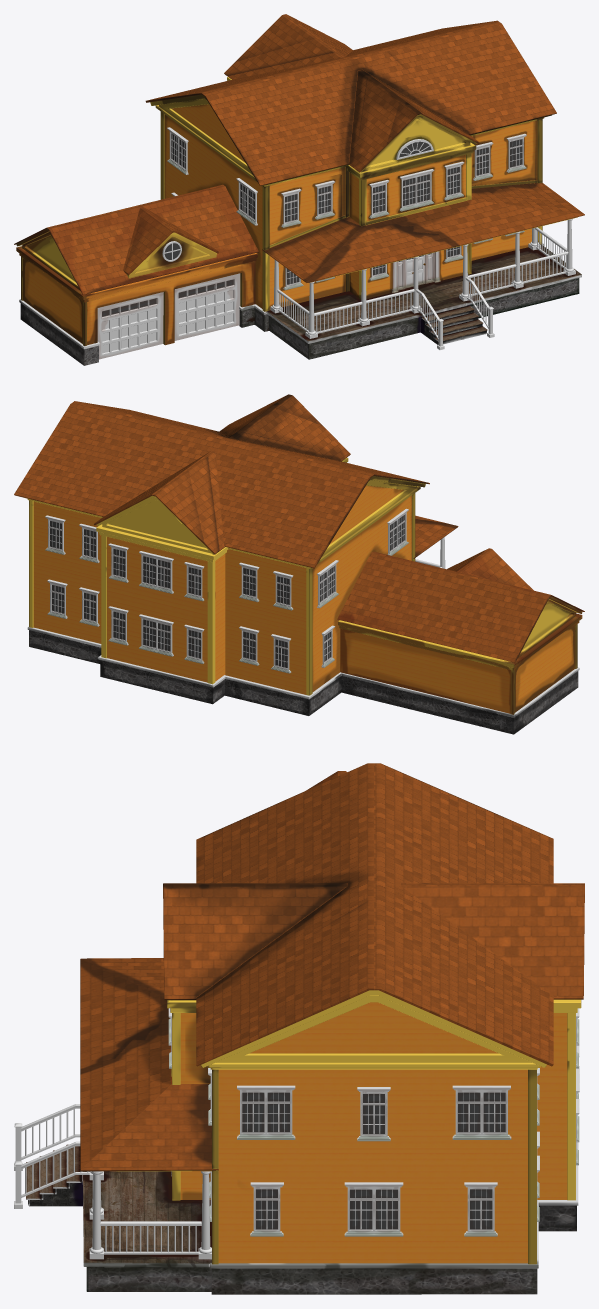
File: mansion.glb
3 views of the same model, one above another, from view 1: azimuth 30°, elevation 25°; view 2: azimuth 150°, elevation 25°; view 3: azimuth 270°, elevation 25° (orthographic). The views are drawn at different scales.
Visible parts, largest first — view 1: house_house_0_11, garage_house_0_7, foundation_details_0_4, windows_details_0_21, garage_door_details_0_9, railings_details_0_17, pillars_details_0_13, steps_details_0_19, door_details_0_2, railing2_details_0_15, arch_window_details_0_0; view 2: house_house_0_11, garage_house_0_7, windows_details_0_21, foundation_details_0_4; view 3: house_house_0_11, foundation_details_0_4, windows_details_0_21, railing2_details_0_15, pillars_details_0_13, steps_details_0_19, railings_details_0_17.
Boxes of the visible parts, box(x1,y1,x2,y2) form: house_house_0_11: box(145, 14, 584, 311); garage_house_0_7: box(14, 184, 258, 346); foundation_details_0_4: box(19, 243, 581, 365); windows_details_0_21: box(167, 127, 526, 290); garage_door_details_0_9: box(97, 273, 240, 359); railings_details_0_17: box(277, 227, 568, 333); pillars_details_0_13: box(270, 218, 575, 338); steps_details_0_19: box(421, 305, 487, 344); door_details_0_2: box(392, 251, 440, 293); railing2_details_0_15: box(415, 277, 494, 349); arch_window_details_0_0: box(396, 139, 433, 159); house_house_0_11: box(14, 394, 458, 695); garage_house_0_7: box(337, 548, 584, 714); windows_details_0_21: box(45, 508, 408, 673); foundation_details_0_4: box(27, 627, 579, 734); house_house_0_11: box(80, 763, 584, 1264); foundation_details_0_4: box(29, 1142, 578, 1294); windows_details_0_21: box(168, 1008, 579, 1236); railing2_details_0_15: box(14, 1104, 89, 1208); pillars_details_0_13: box(89, 1171, 211, 1259); steps_details_0_19: box(26, 1144, 82, 1205); railings_details_0_17: box(100, 1221, 201, 1254).
Bounding box in the file's own units: 20.24 × 8.42 × 13.88.
Materials: 2 (2 with a texture image).
